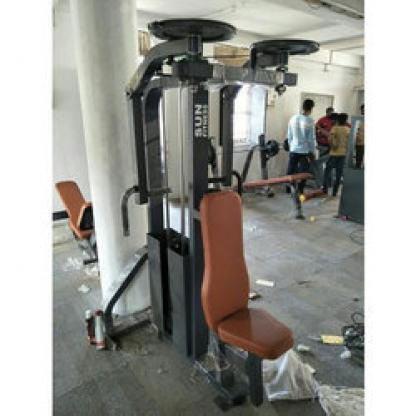chest fly machine: (74, 13, 339, 413)
